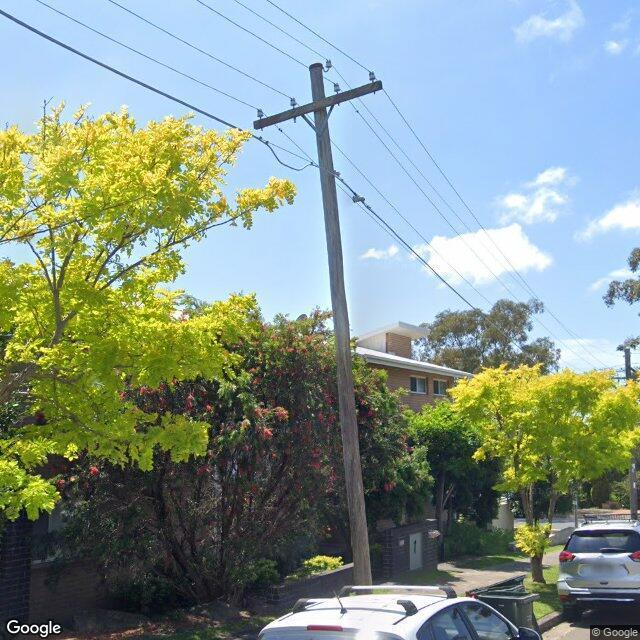crossarm: (254, 81, 383, 131)
timber-pole: (310, 61, 372, 591)
